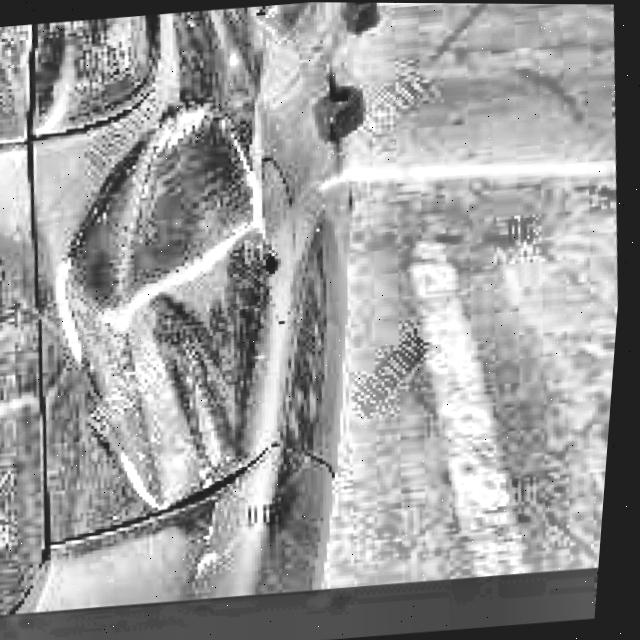bumper_dent: (29, 105, 302, 519)
